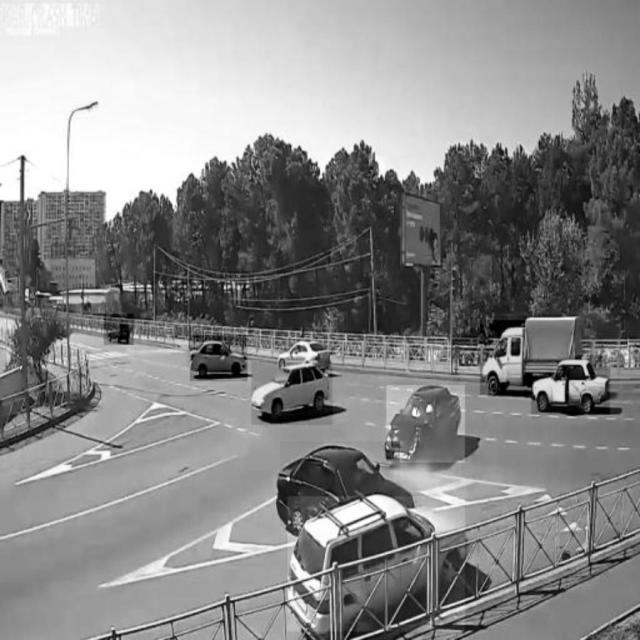vehicle: (288, 497, 465, 631), (280, 441, 401, 525), (480, 320, 576, 396), (387, 386, 465, 463), (251, 361, 332, 425), (532, 355, 610, 415), (191, 336, 248, 382), (275, 335, 332, 369), (104, 314, 134, 344)
